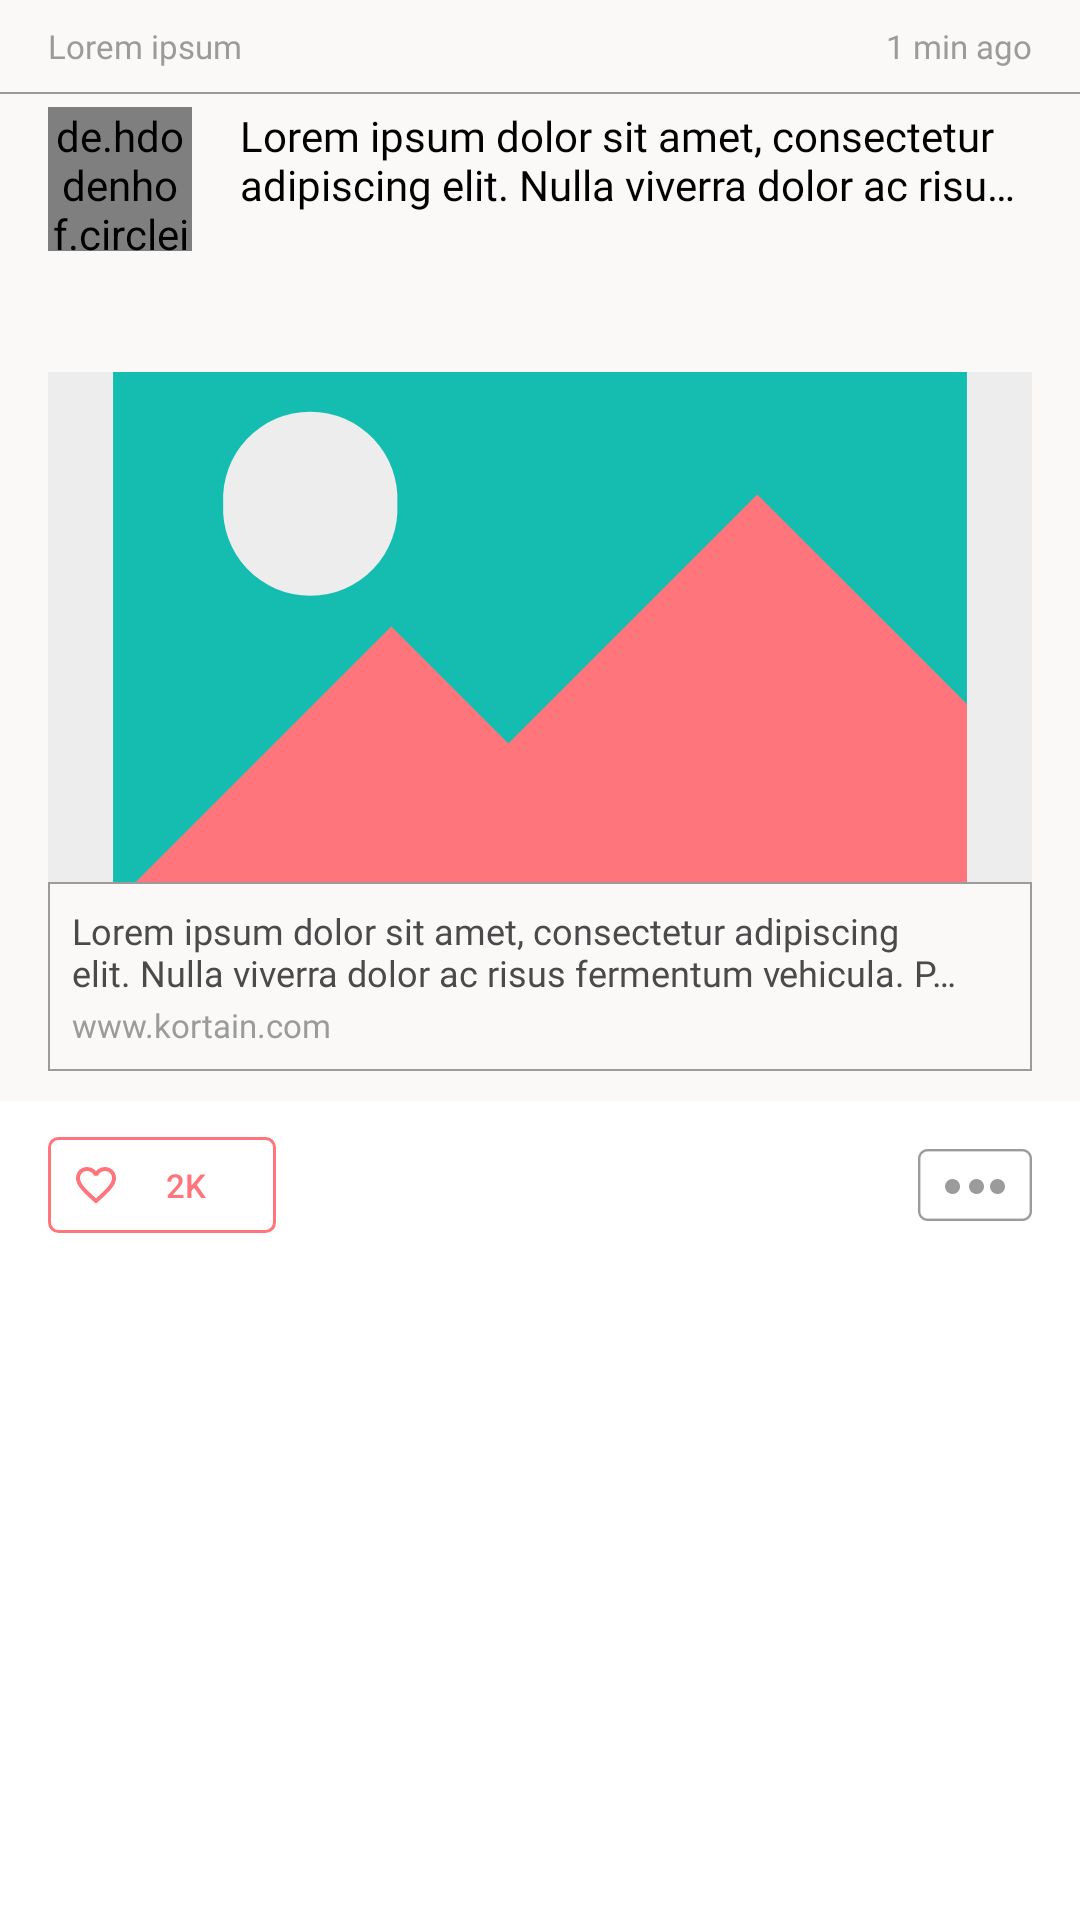

Screen size 1080×1920. Icon name, then its box in pixels as (x1, y1, x2, y2):
menu: (918, 1149, 1032, 1221)
